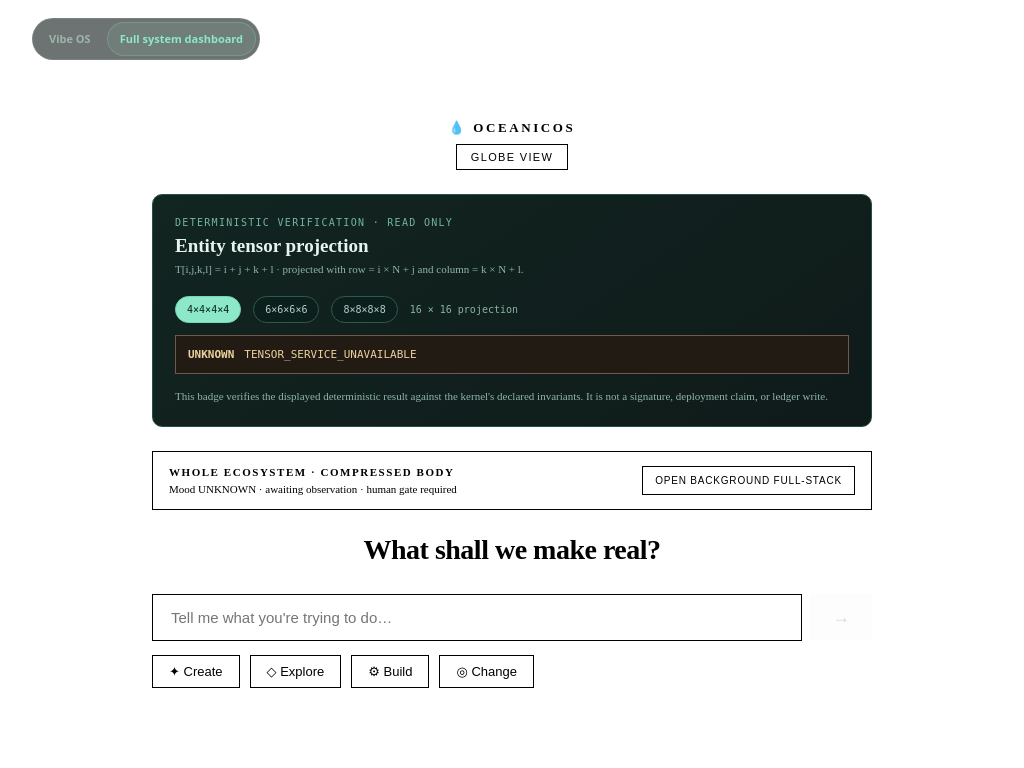
Test: legacy OceanicOS dashboard › shows a proposed command receipt without executing it
Type "Map AI SOUL." into the field with placeholder "Tell me what you're trying to do…" at [477, 618], box [152,594,802,641]
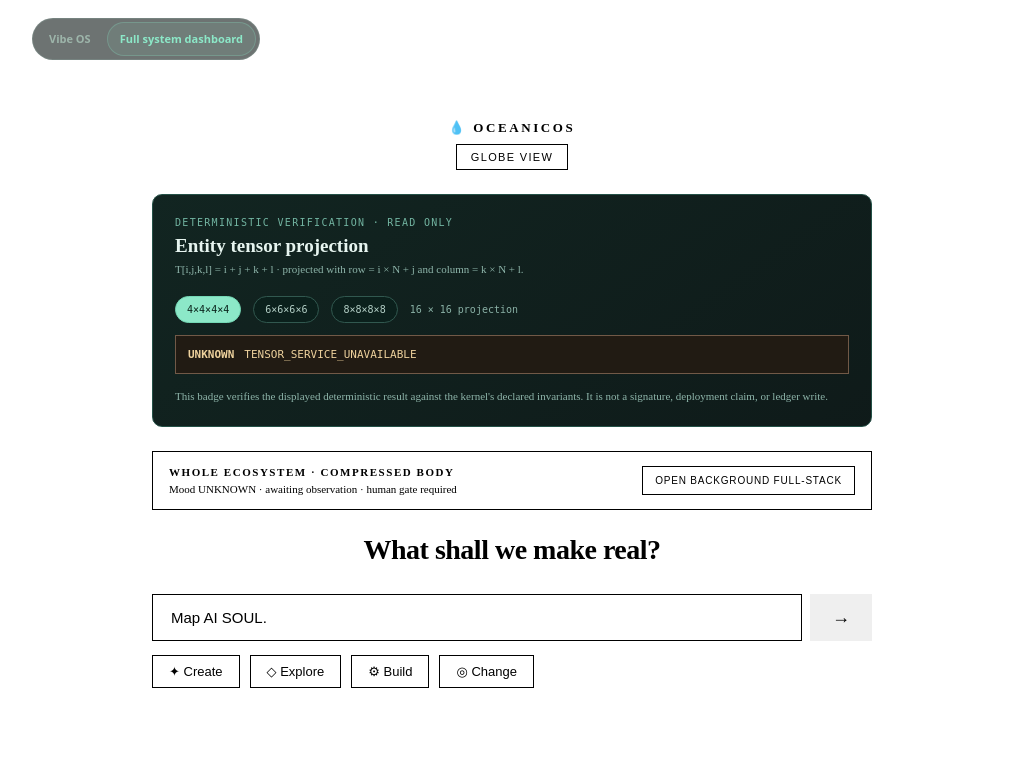
Click the button "→" at [841, 618], box [810,594,872,641]
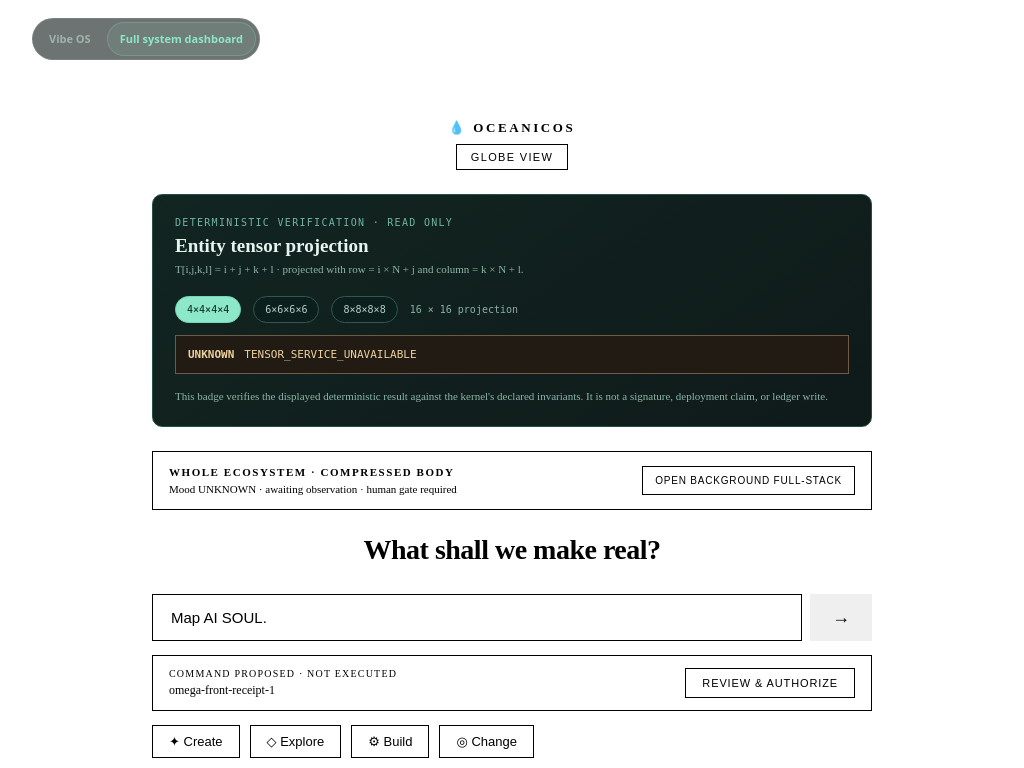
Now the message named "Command receipt" shows "Command PROPOSED · not executed", box [152,655,872,711]
Now the message named "Command receipt" shows "omega-front-receipt-1", box [169,683,275,697]
